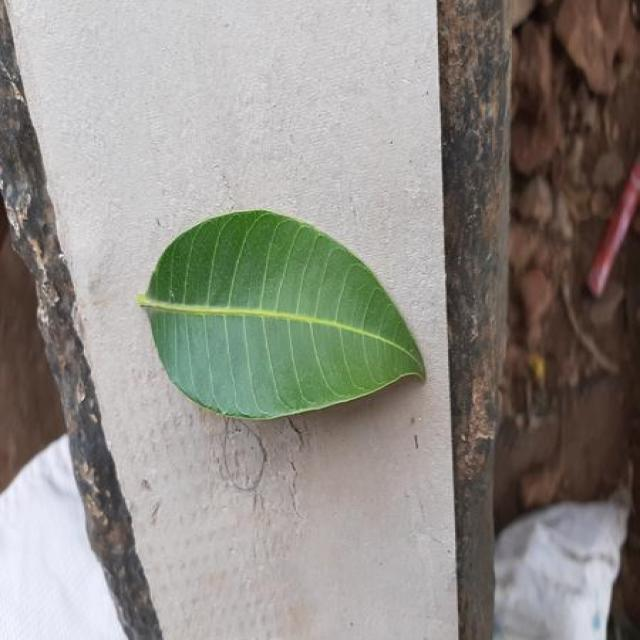mango: (137, 210, 425, 418)
